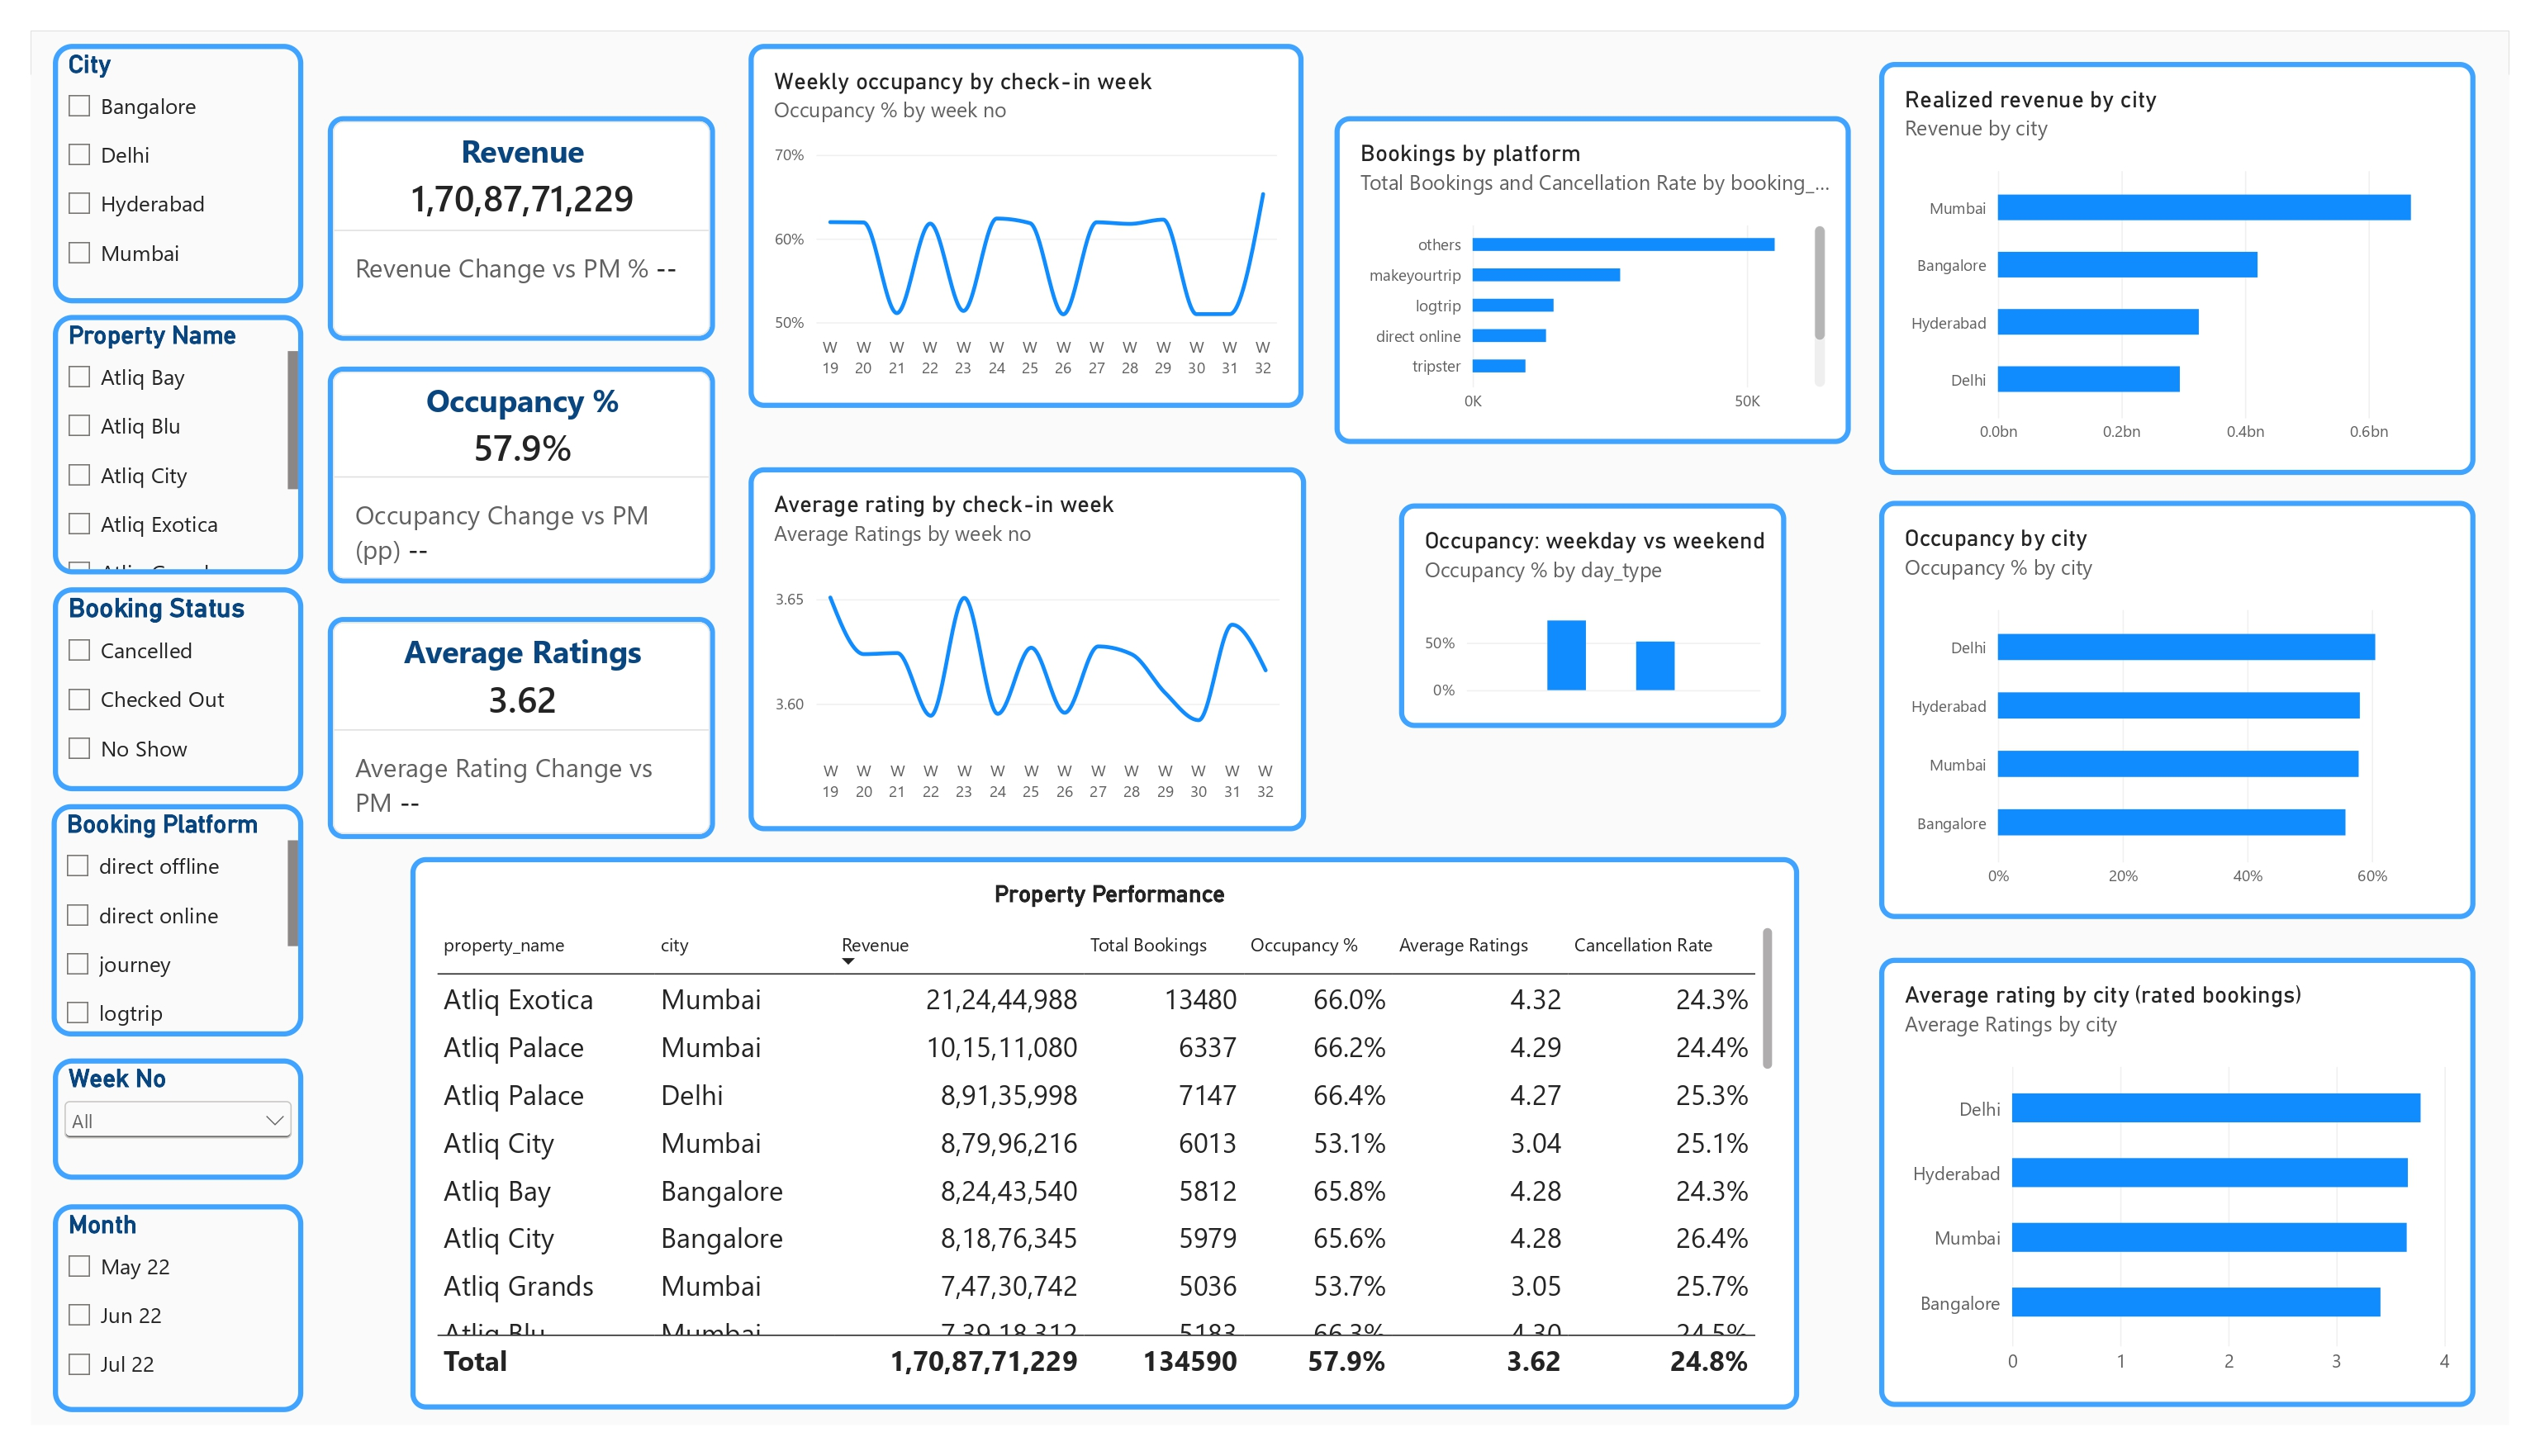

This screenshot's page, from the dashboard's own definition file:
{"tool":"powerbi","page":{"name":"Page 1","canvas":[1920,1080],"ordinal":0},"visuals":[{"type":"slicer","title":"City","fields":{"Values":["dim_hotels.city"]},"box":[17.1,10,194.3,201.4],"z":0},{"type":"cardVisual","fields":{"Data":["fact_bookings.Revenue"]},"box":[230,66,300,174],"z":1000},{"type":"cardVisual","fields":{"Data":["fact_aggregated_bookings.Occupancy %"]},"box":[230,260,300,168],"z":2000},{"type":"cardVisual","fields":{"Data":["fact_bookings.Average Ratings"]},"box":[230,454,300,172],"z":3000},{"type":"lineChart","title":"Weekly occupancy by check-in week","fields":{"Category":["dim_date.week no"],"Y":["fact_aggregated_bookings.Occupancy %"]},"box":[556,10,430,282],"z":4000},{"type":"lineChart","title":"Average rating by check-in week","fields":{"Category":["dim_date.week no"],"Y":["fact_bookings.Average Ratings"]},"box":[556,338,432,282],"z":5000},{"type":"clusteredBarChart","title":"Realized revenue by city","fields":{"Category":["dim_hotels.city"],"Y":["fact_bookings.Revenue"]},"box":[1432,24,462,320],"z":6000},{"type":"clusteredBarChart","title":"Occupancy by city","fields":{"Category":["dim_hotels.city"],"Y":["fact_aggregated_bookings.Occupancy %"]},"box":[1432,364,462,324],"z":7000},{"type":"clusteredBarChart","title":"Average rating by city (rated bookings)","fields":{"Category":["dim_hotels.city"],"Y":["fact_bookings.Average Ratings"]},"box":[1432,718,462,348],"z":8000},{"type":"tableEx","title":"Property Performance","fields":{"Values":["dim_hotels.property_name","dim_hotels.city","fact_bookings.Revenue","fact_bookings.Total Bookings","fact_aggregated_bookings.Occupancy %","fact_bookings.Average Ratings","fact_bookings.Cancellation Rate"]},"box":[294,640,1076,428],"z":9000},{"type":"clusteredColumnChart","title":"Occupancy: weekday vs weekend","fields":{"Category":["dim_date.day_type"],"Y":["fact_aggregated_bookings.Occupancy %"]},"box":[1060,366,300,174],"z":10000},{"type":"clusteredBarChart","title":"Bookings by platform","fields":{"Category":["fact_bookings.booking_platform"],"Y":["fact_bookings.Total Bookings"]},"box":[1010,66,400,254],"z":11000},{"type":"slicer","fields":{"Values":["dim_hotels.property_name"]},"box":[17.1,220,194.3,201.4],"z":12000},{"type":"slicer","fields":{"Values":["fact_bookings.booking_status"]},"box":[17.1,431.4,194.3,157.1],"z":13000},{"type":"slicer","fields":{"Values":["fact_bookings.booking_platform"]},"box":[15.7,599,195.7,180],"z":14000},{"type":"slicer","fields":{"Values":["dim_date.mmm yy"]},"box":[17.1,908.6,194.3,161.4],"z":15000},{"type":"slicer","fields":{"Values":["dim_date.week no"]},"box":[17.1,795.7,194.3,94.3],"z":16000}]}

Visuals, with their boxes in screenshot pixels (x1, y1, x2, y2):
"City" slicer: 36, 26, 289, 289
cardVisual - fact_bookings.Revenue: 313, 99, 705, 326
cardVisual - fact_aggregated_bookings.Occupancy %: 313, 353, 705, 571
cardVisual - fact_bookings.Average Ratings: 313, 605, 705, 830
"Weekly occupancy by check-in week" lineChart: 738, 26, 1299, 394
"Average rating by check-in week" lineChart: 738, 454, 1302, 822
"Realized revenue by city" clusteredBarChart: 1882, 45, 2484, 462
"Occupancy by city" clusteredBarChart: 1882, 488, 2484, 911
"Average rating by city (rated bookings)" clusteredBarChart: 1882, 950, 2484, 1404
"Property Performance" tableEx: 396, 848, 1801, 1406
"Occupancy: weekday vs weekend" clusteredColumnChart: 1396, 491, 1787, 718
"Bookings by platform" clusteredBarChart: 1331, 99, 1853, 430
slicer - dim_hotels.property_name: 36, 300, 289, 563
slicer - fact_bookings.booking_status: 36, 576, 289, 781
slicer - fact_bookings.booking_platform: 34, 794, 289, 1029
slicer - dim_date.mmm yy: 36, 1198, 289, 1409
slicer - dim_date.week no: 36, 1051, 289, 1174
